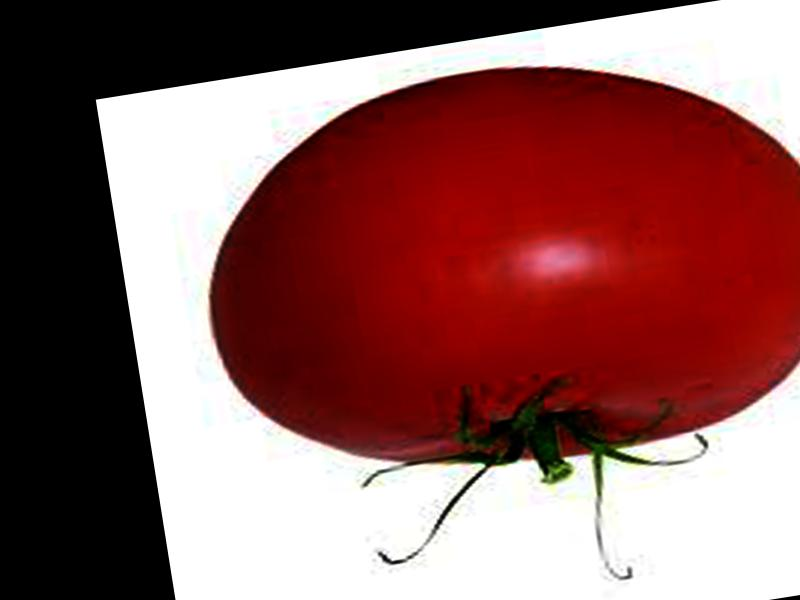Tomato: (181, 21, 800, 510)
